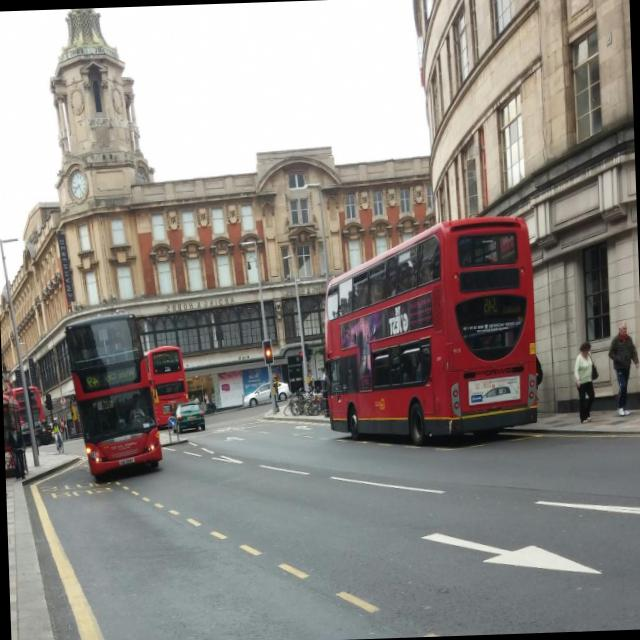bus: (322, 211, 538, 448), (65, 317, 162, 470), (140, 344, 190, 426), (6, 386, 49, 436), (3, 393, 22, 472)
